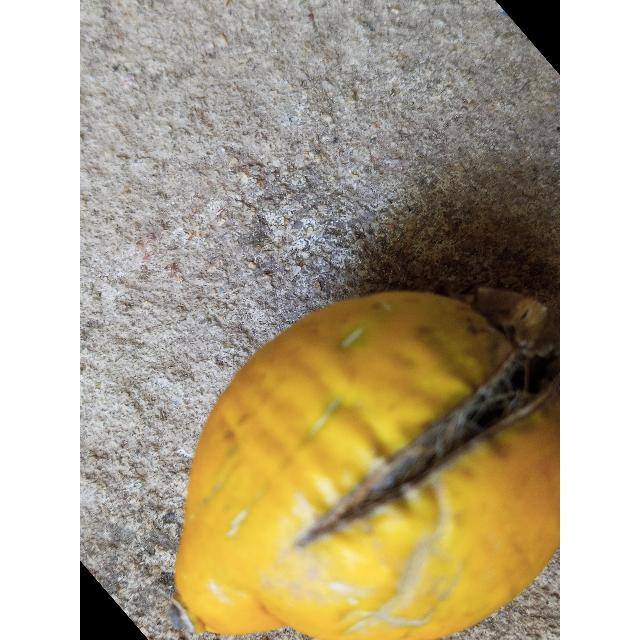damaged: (172, 287, 560, 640)
